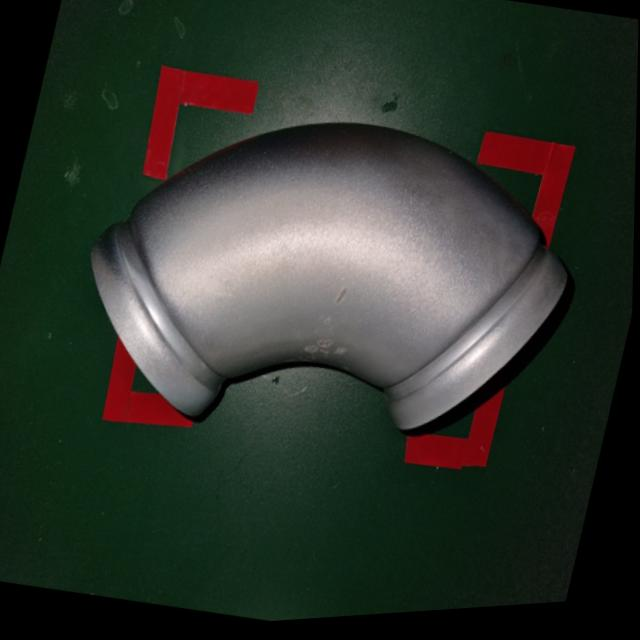Defect: (50, 57, 605, 513)
Hole: (277, 267, 384, 391)
